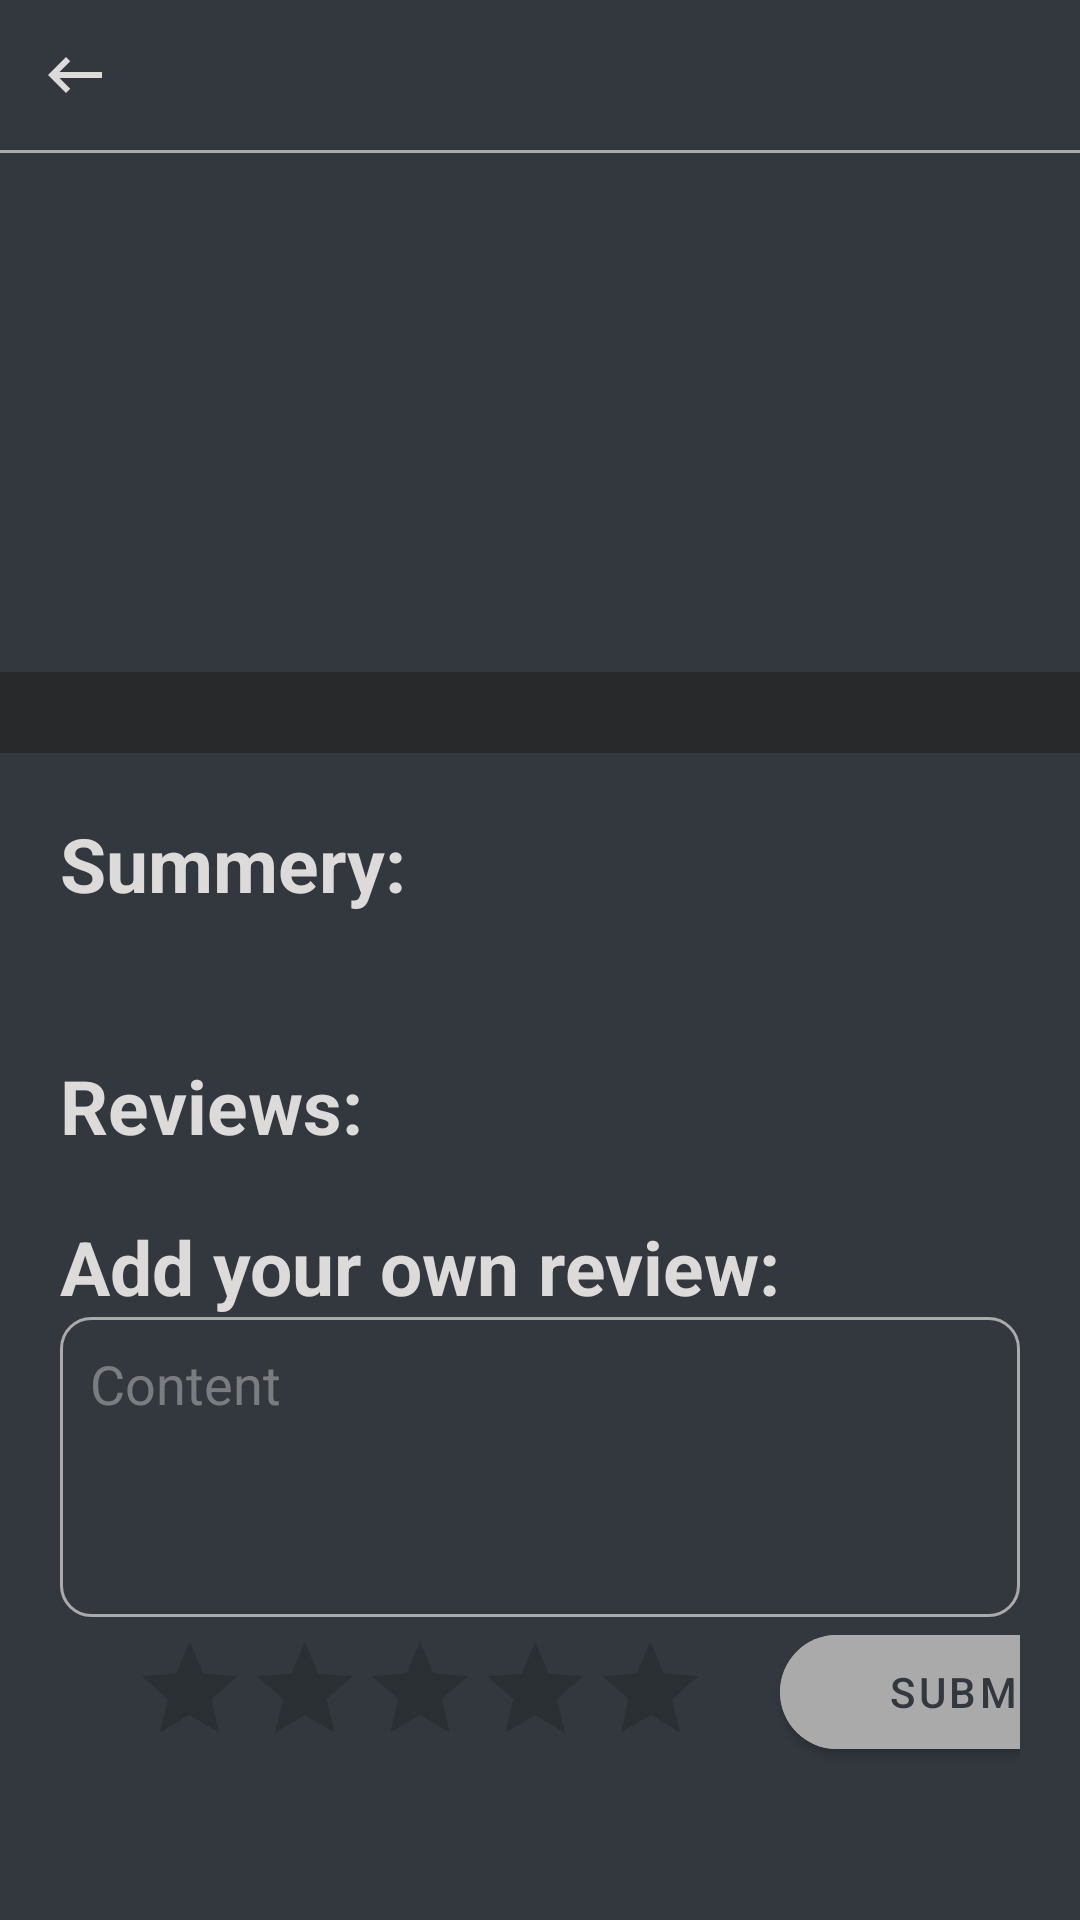

Icon click points for this 1080x1920 phone screenshot, format [x,y]:
Goes Back To The Previous Page: [75,75]
